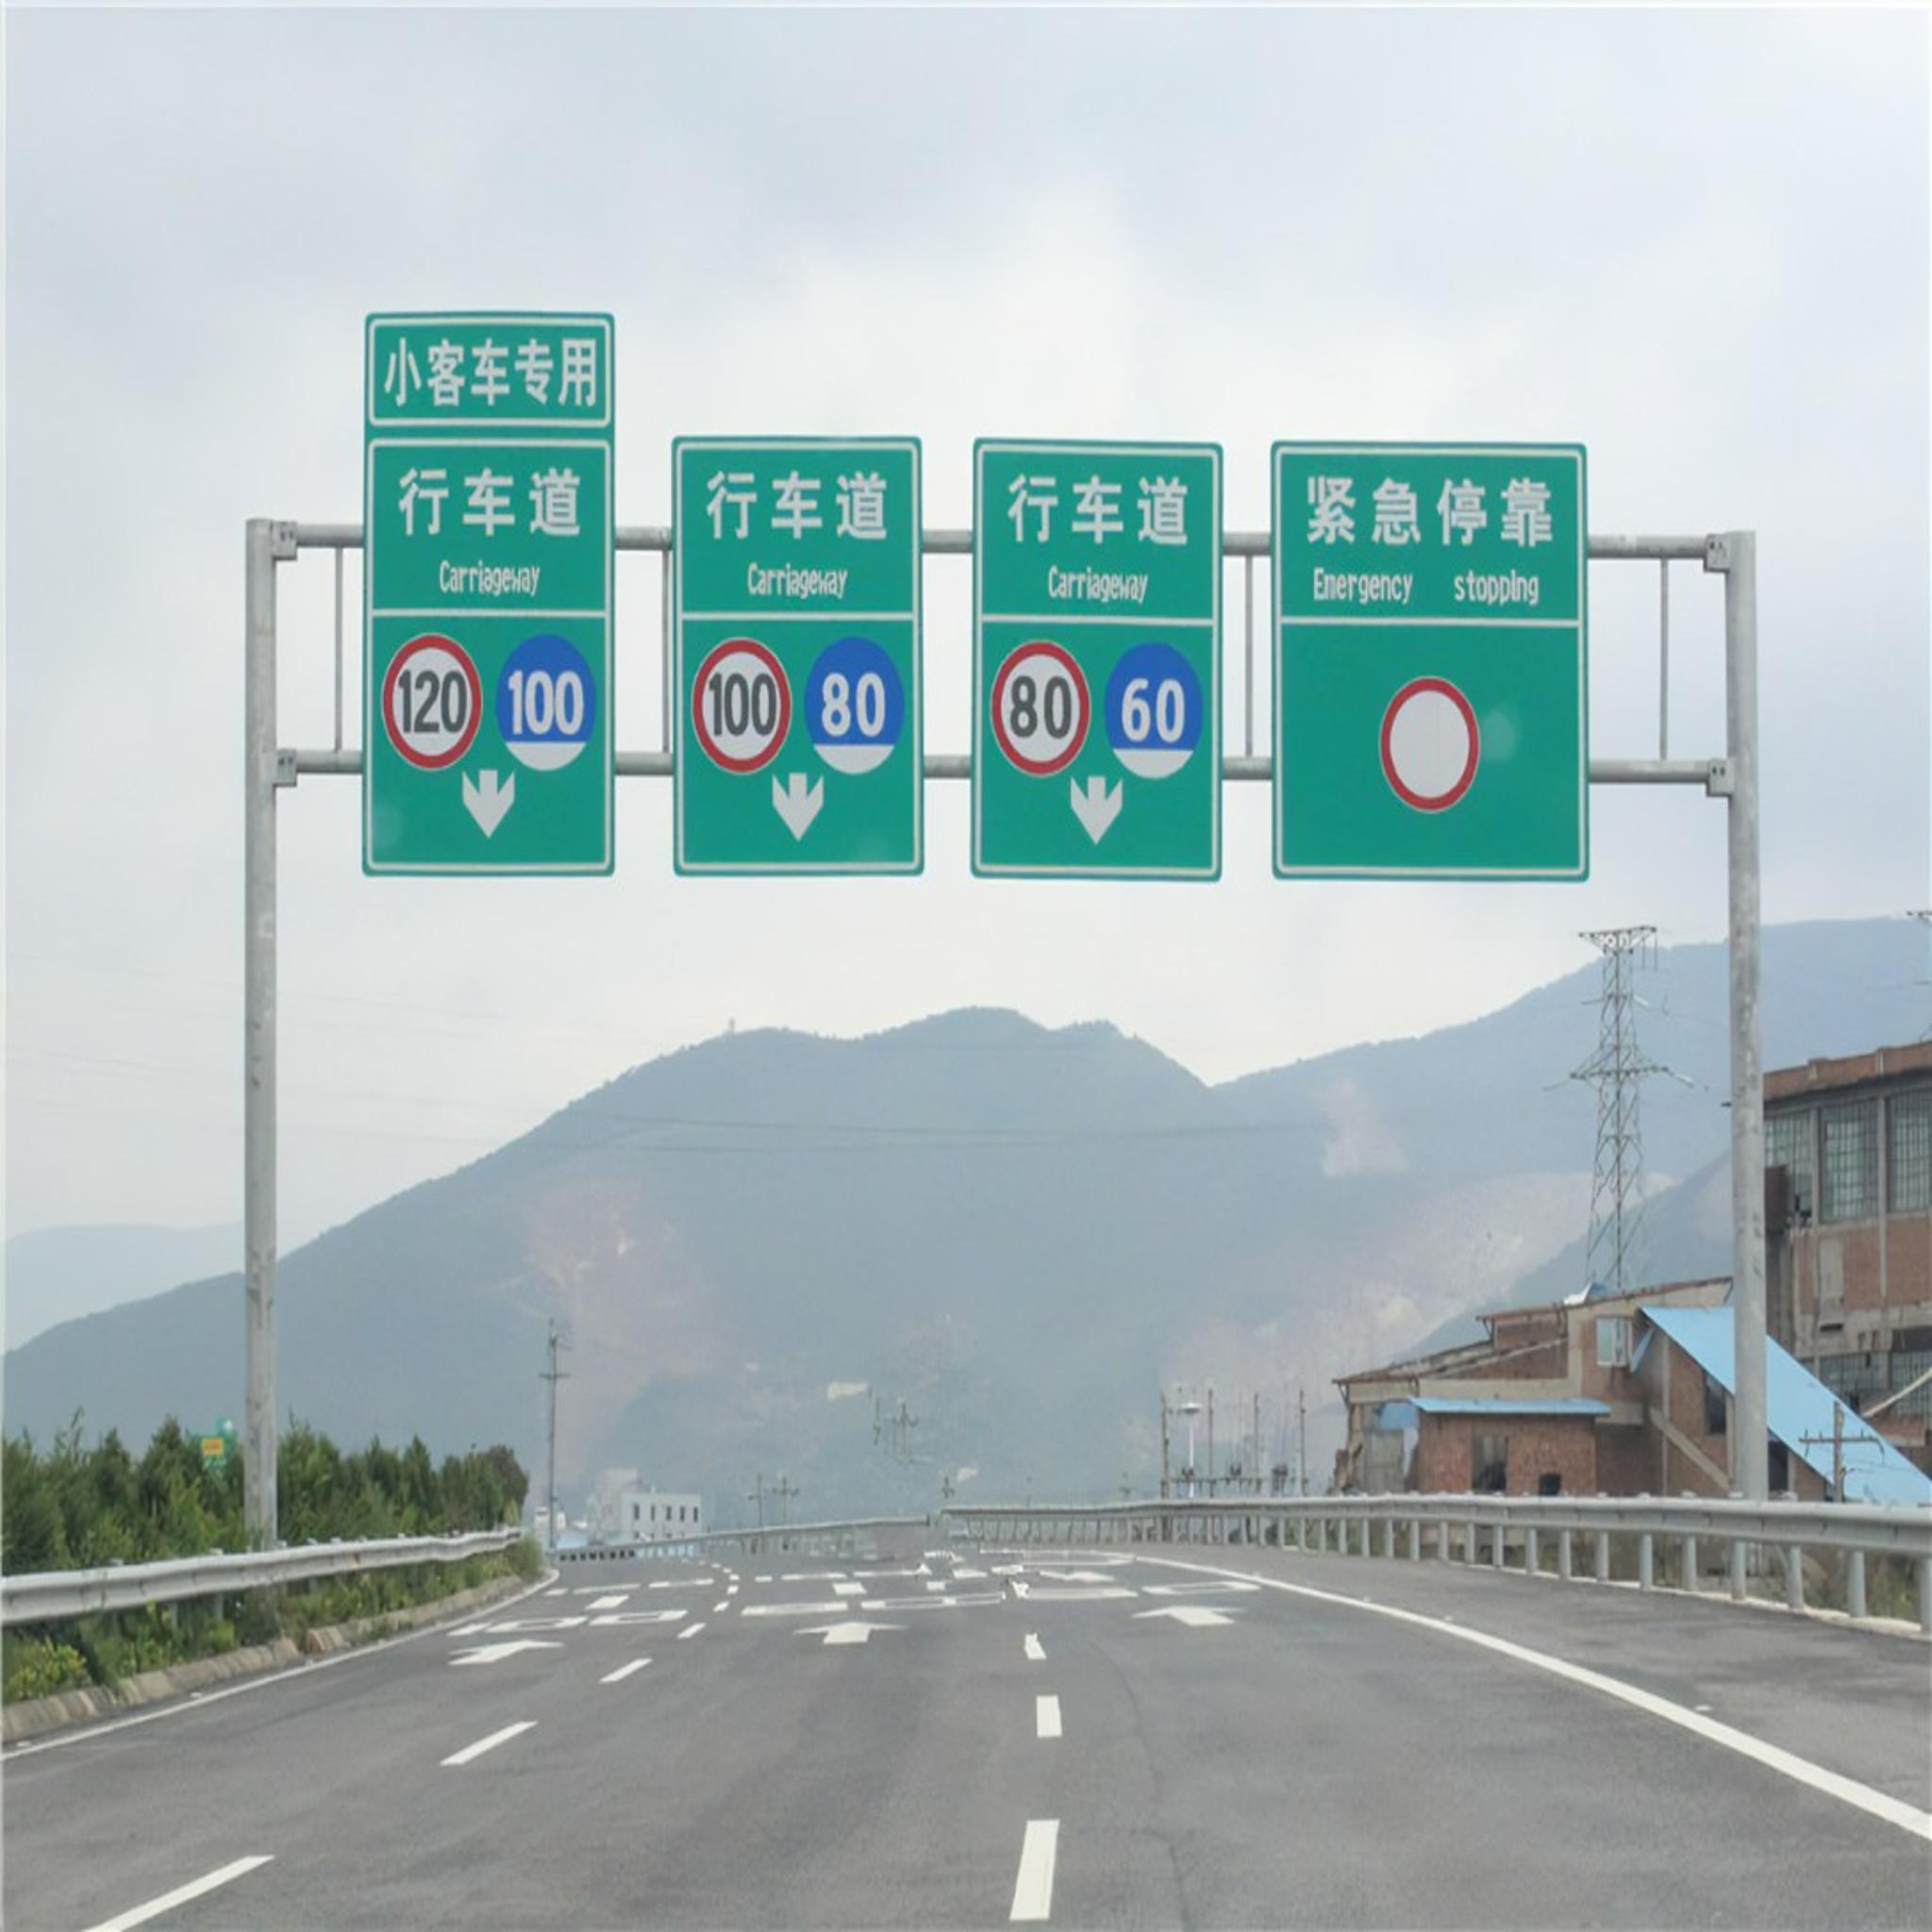il100: (494, 635, 594, 773)
il60: (1104, 644, 1205, 780)
il80: (803, 637, 902, 775)
pb: (1382, 676, 1479, 812)
pl100: (692, 639, 793, 773)
pl120: (379, 630, 485, 773)
pl80: (989, 640, 1090, 778)
